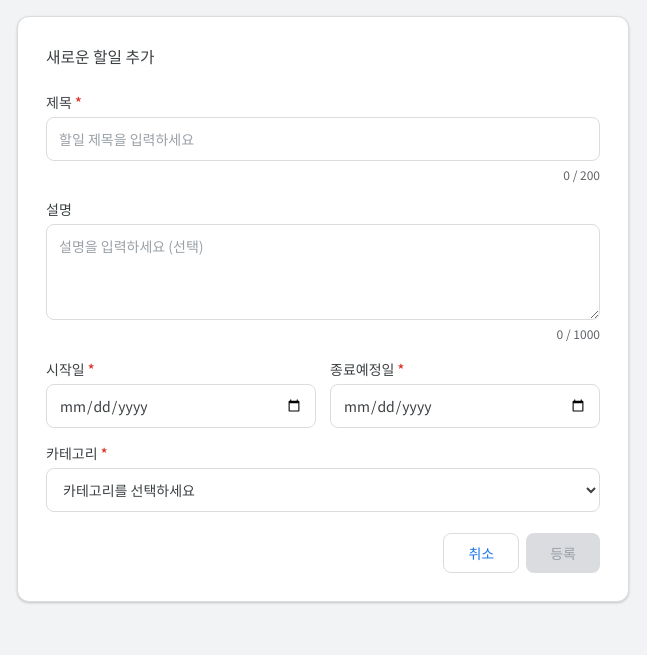
Scenario: TodoForm › due_date < start_date 입력 시 경고 메시지 표시 + 제출 불가
Type "테스트 제목" into the field labelled "제목 *" at (323, 139), box [46,117,600,161]
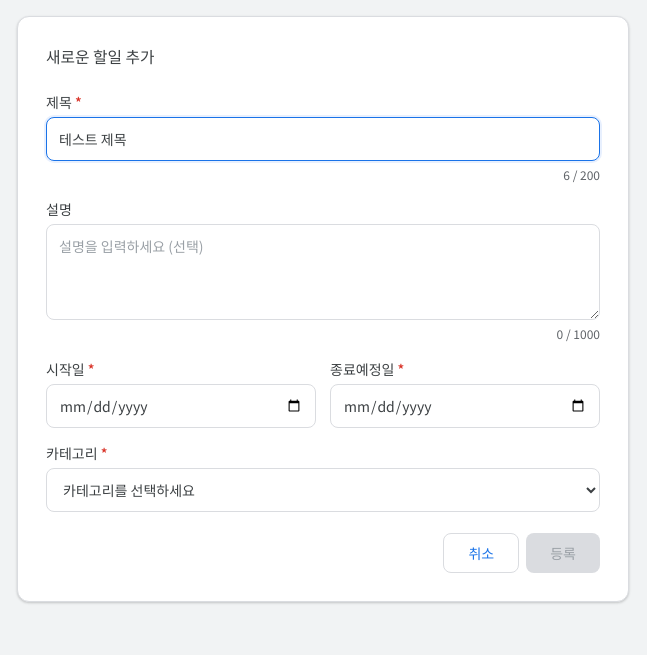
Type "2026-05-20" into the date field labelled "시작일 *" at (181, 406), box [46,384,316,428]
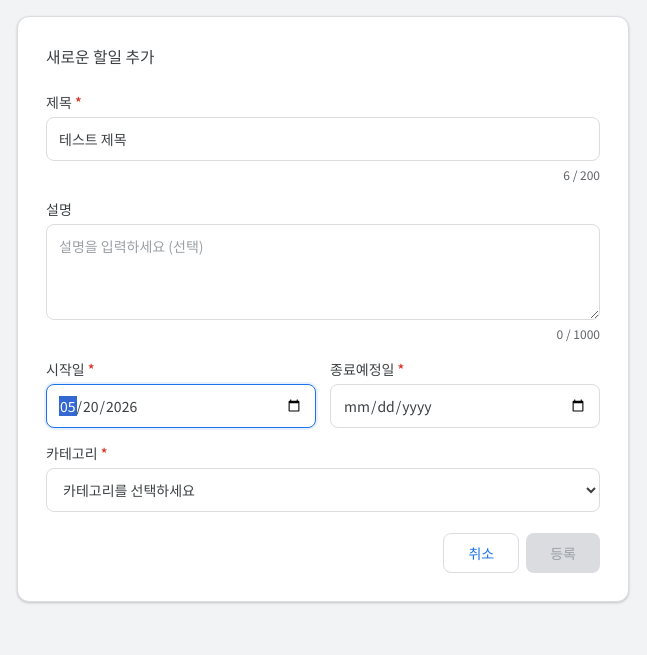
Type "2026-05-10" into the date field labelled "종료예정일 *" at (465, 406), box [330,384,600,428]
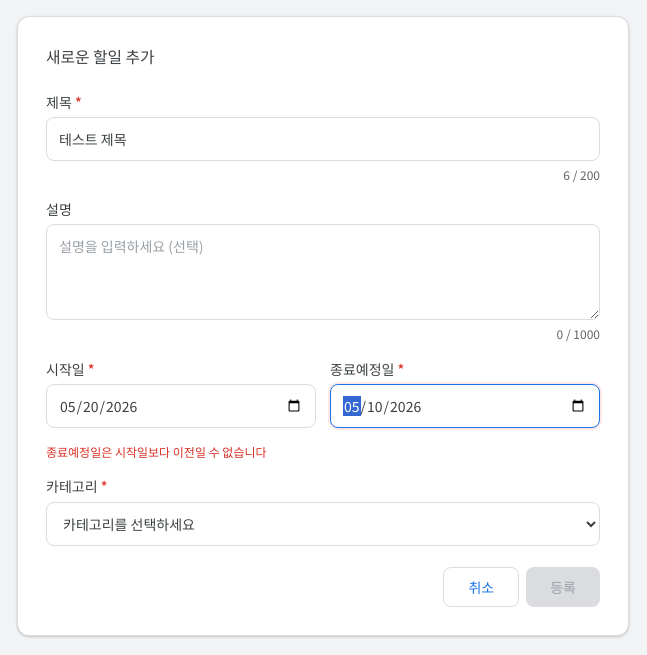
Expected: the button "등록" is disabled, [526,567,600,607]
Result: the text "종료예정일은 시작일보다 이전일 수 없습니다" is shown at [46,443,266,460]
